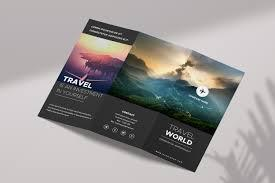paper: (39, 19, 245, 172)
